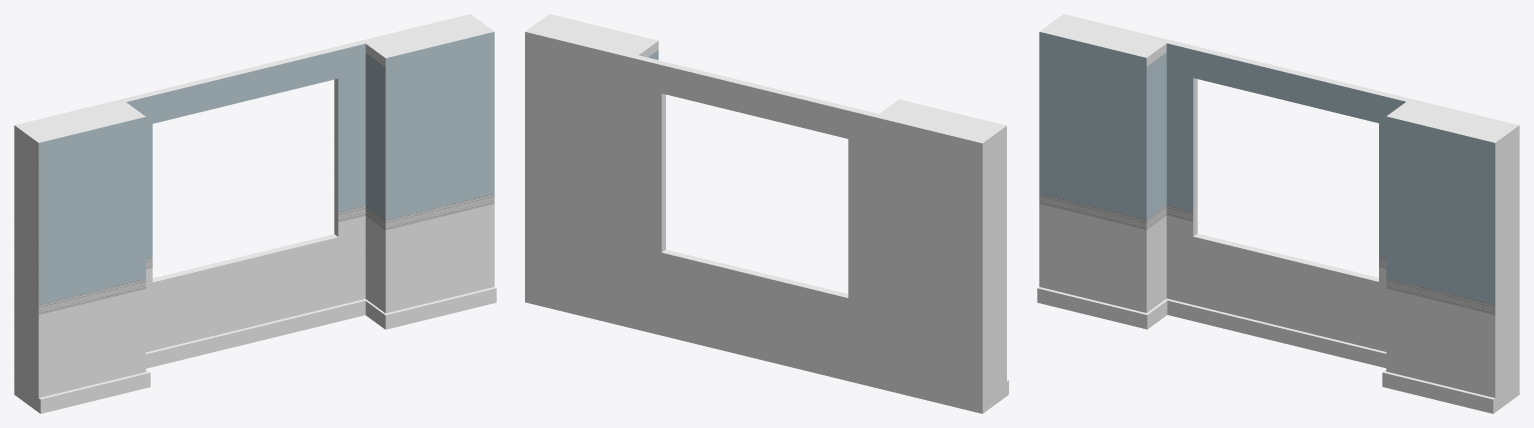
Rendered from Wall 2.FBX.
3 renders of one model, left to right at view 1: azimuth 30°, elevation 25°; view 2: azimuth 150°, elevation 25°; view 3: azimuth 330°, elevation 25°, orthographic.
Visible parts, largest first — view 1: wall 2; view 2: wall 2; view 3: wall 2.
Boxes of the visible parts, x1,y1,x2,y2 form: wall 2: (14,14,496,413); wall 2: (525,14,1008,413); wall 2: (1037,14,1519,413).
Size of the model in its own units: 550 by 311 by 54.63.
Materials: 2 (1 with a texture image).
